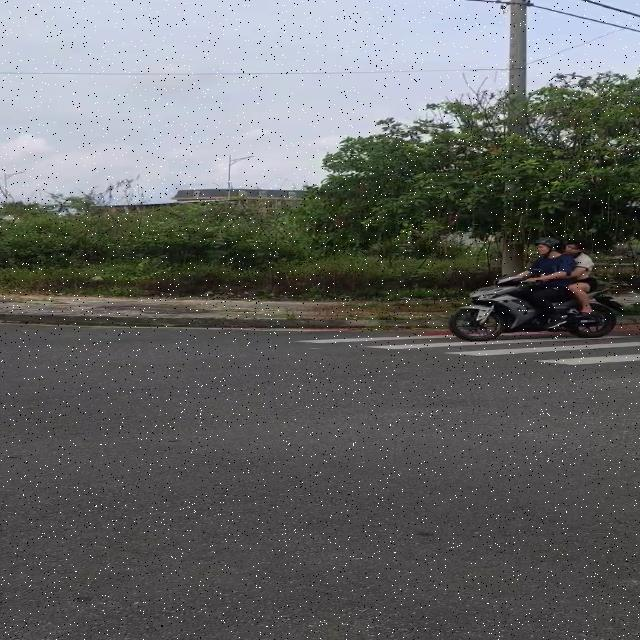helmet: (527, 237, 563, 262)
